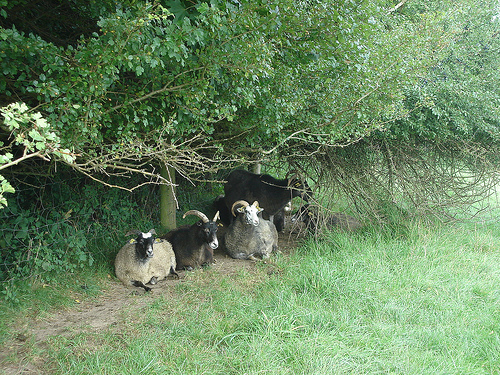goat: (220, 169, 314, 235), (111, 228, 182, 292), (221, 199, 280, 263), (163, 208, 221, 271), (290, 203, 367, 240)
